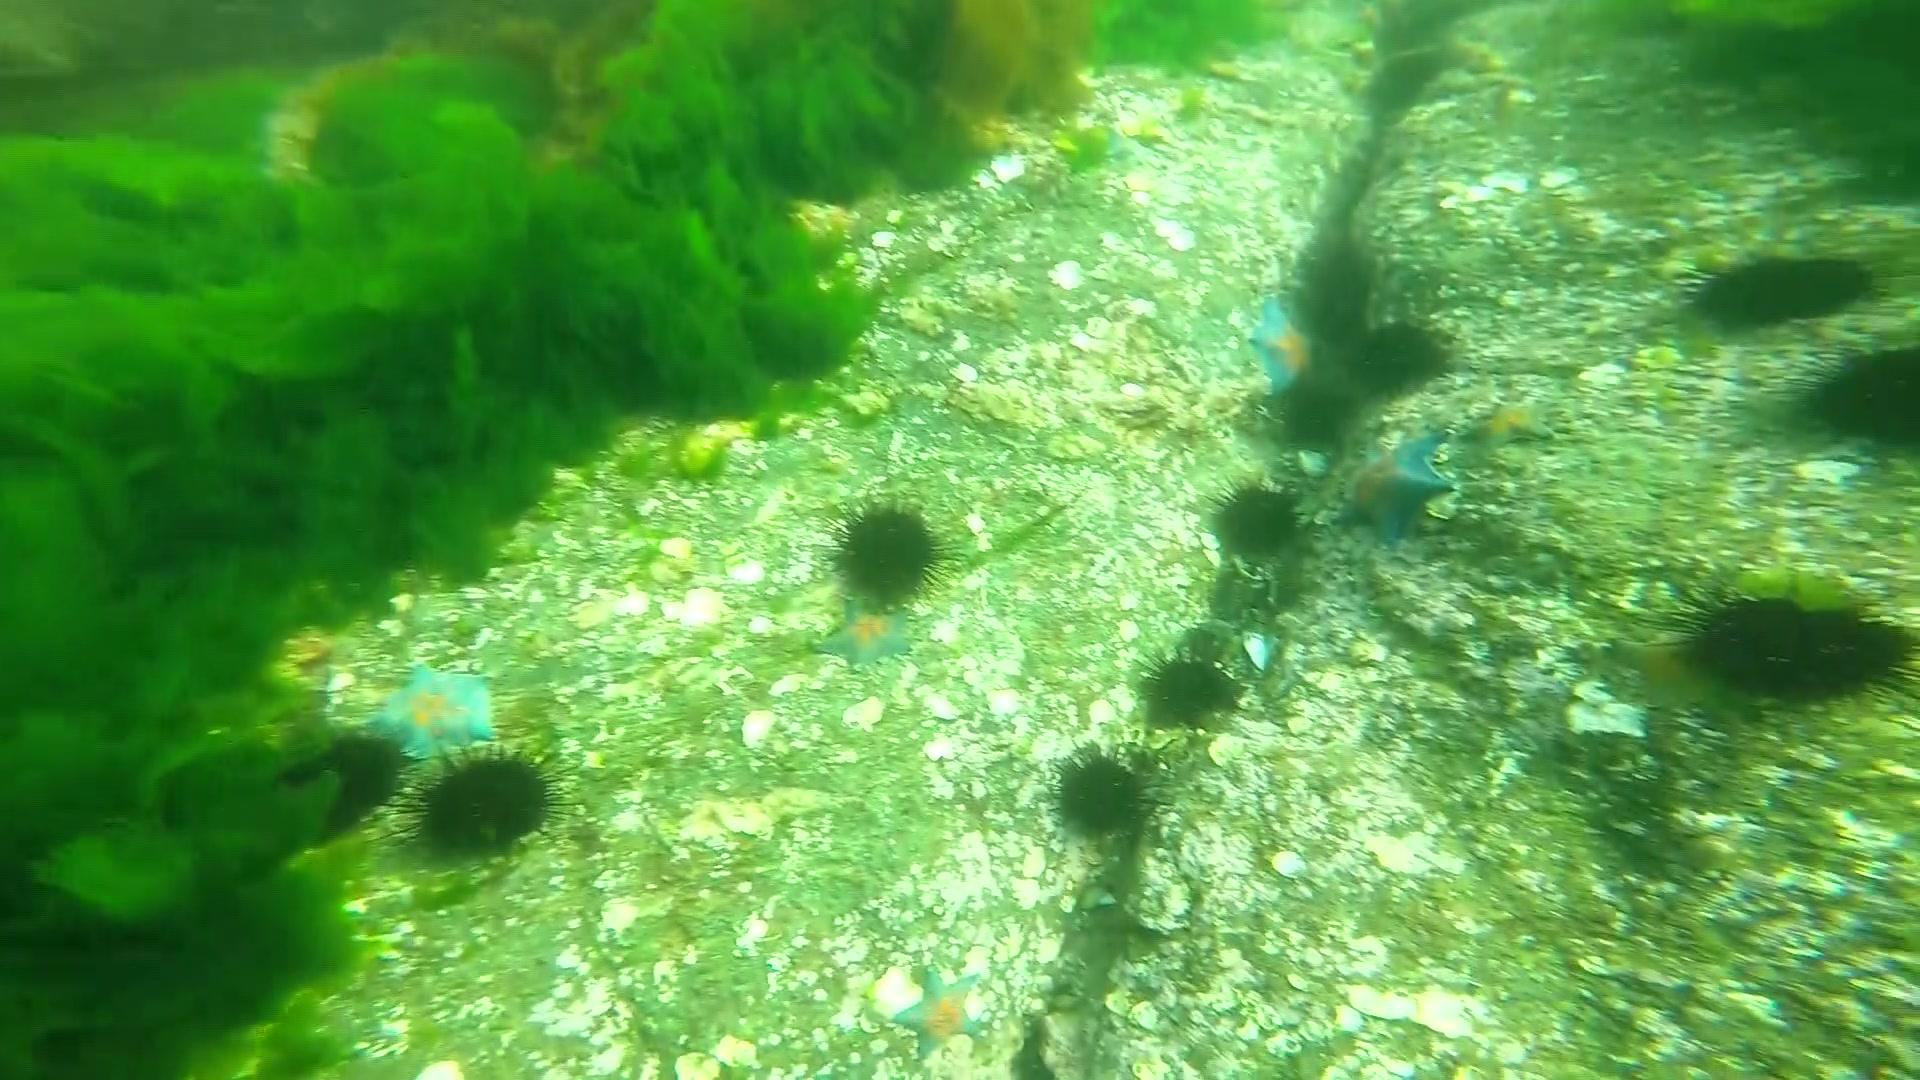echinus: (1635, 568, 1920, 716), (367, 740, 589, 862), (257, 720, 414, 847), (1676, 245, 1880, 338), (815, 497, 967, 607), (1789, 334, 1920, 454), (1039, 744, 1182, 852), (1130, 637, 1251, 732), (1203, 471, 1313, 560), (1356, 324, 1455, 390), (1274, 382, 1352, 447)
starfish: (1332, 426, 1461, 553), (357, 653, 505, 764), (1242, 289, 1337, 398), (894, 964, 986, 1065), (816, 599, 920, 676), (1470, 396, 1563, 450)
